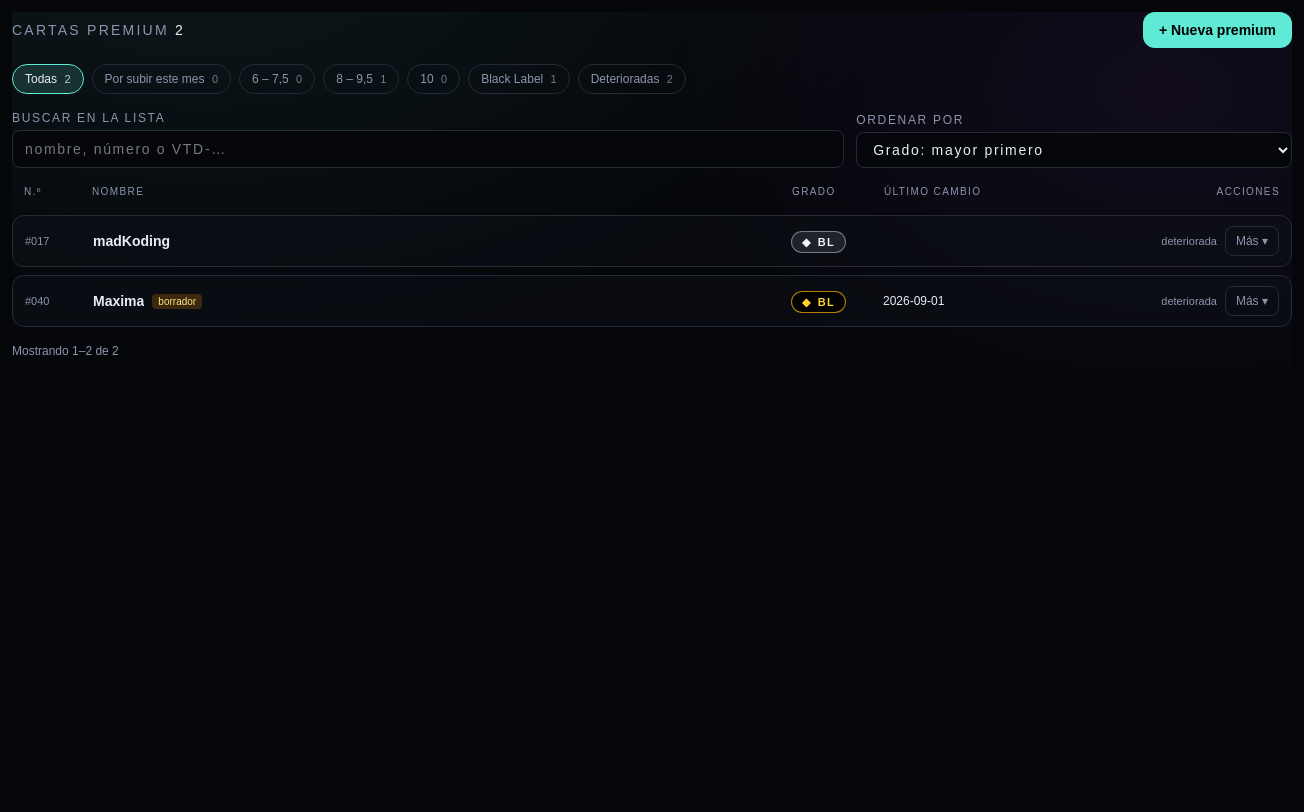
Test: PremiumManager › un código de una ficha que YA es premium no se ofrece de nuevo
The width and height of the screenshot is (1304, 812).
Click the button "+ Nueva premium" at coordinates (1217, 30), box [1143,12,1292,48]
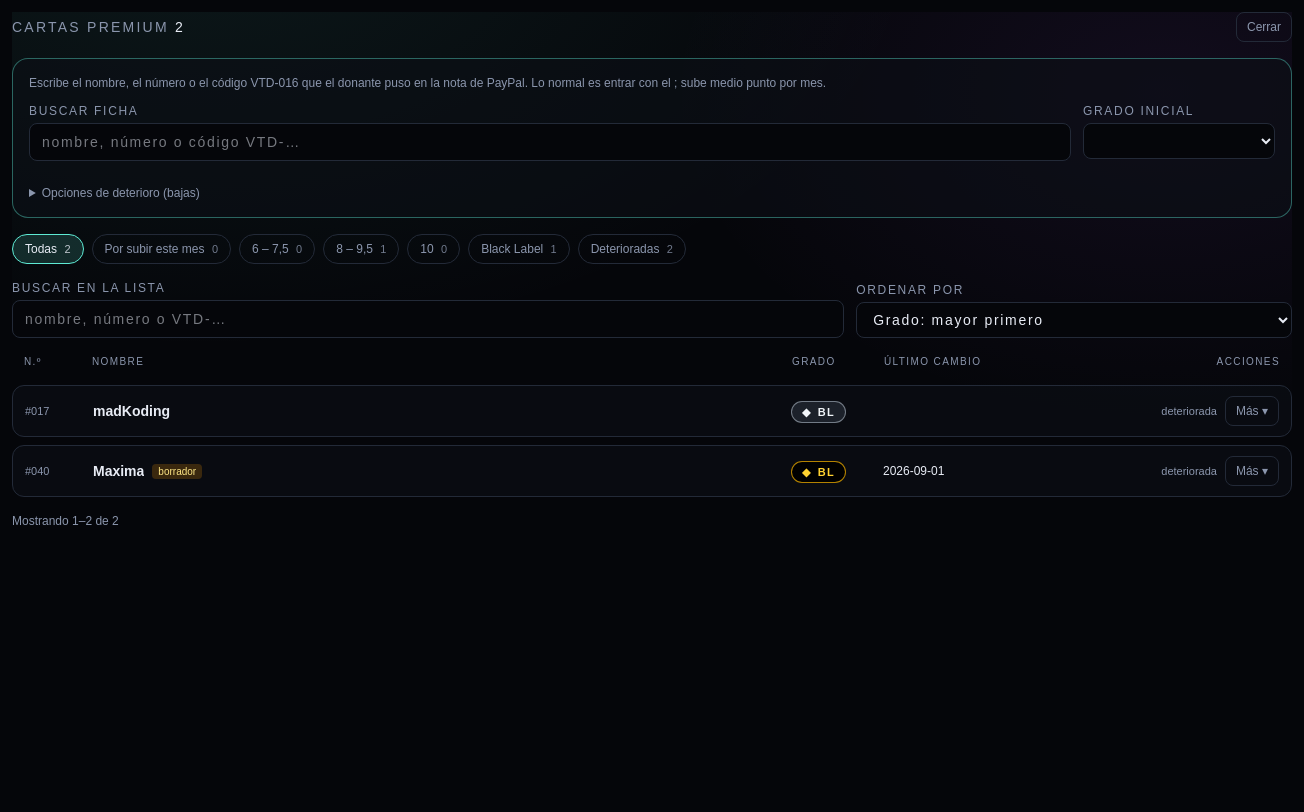
Type "VTD-017" into the field named "Buscar ficha para hacerla premium" at coordinates (550, 142), box [29,123,1071,161]
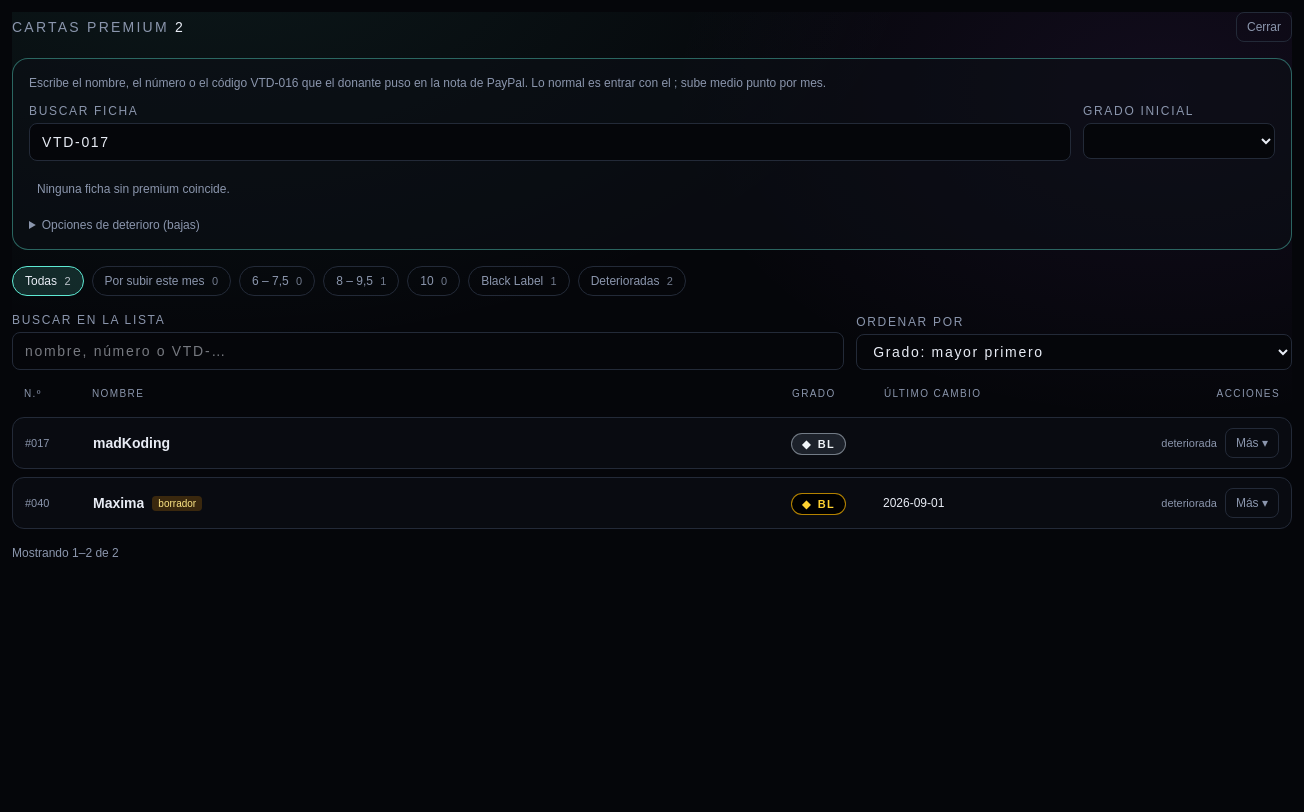
Result: the list item "Ninguna ficha sin premium coincide." is shown at [37,182,230,196]
